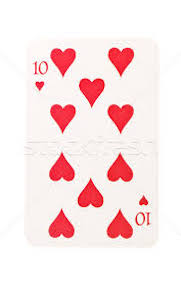TenOfHearts: (17, 32, 166, 253)
